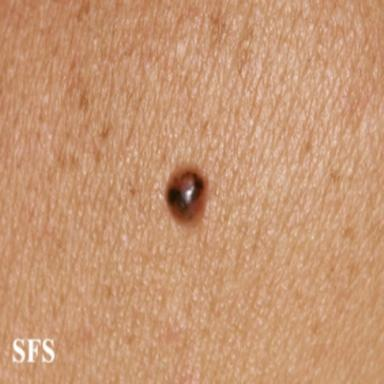basal-cell-carcinoma: (165, 162, 209, 226)
